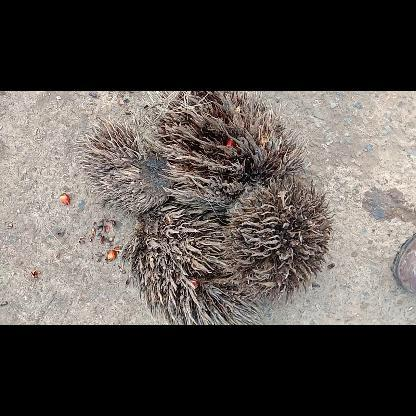Janjang kosong: (142, 91, 308, 213), (122, 207, 262, 324), (224, 178, 334, 302), (73, 118, 173, 214)
